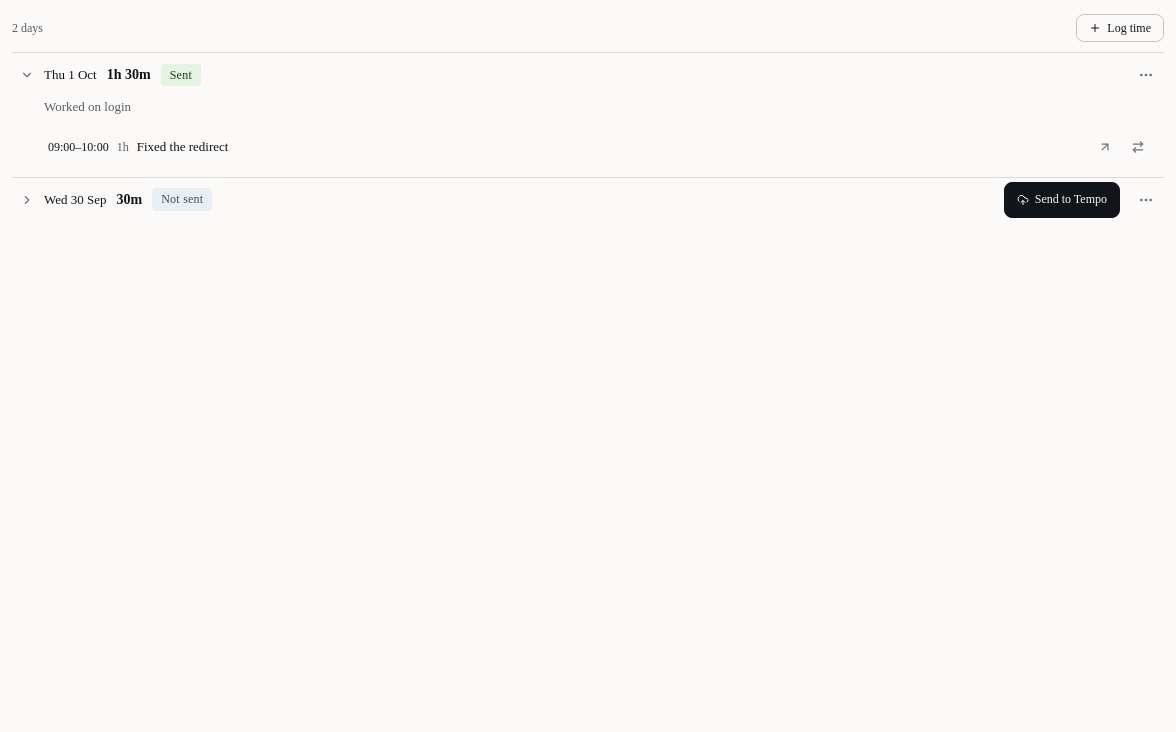
Test: log time › defaults: the daemon's today (not the browser's), max that day, a 15-minute start
Expected: the text "2 days" is shown, [12,19,43,37]
Click the button "Log time" at (1120, 28), box [1076,14,1164,42]
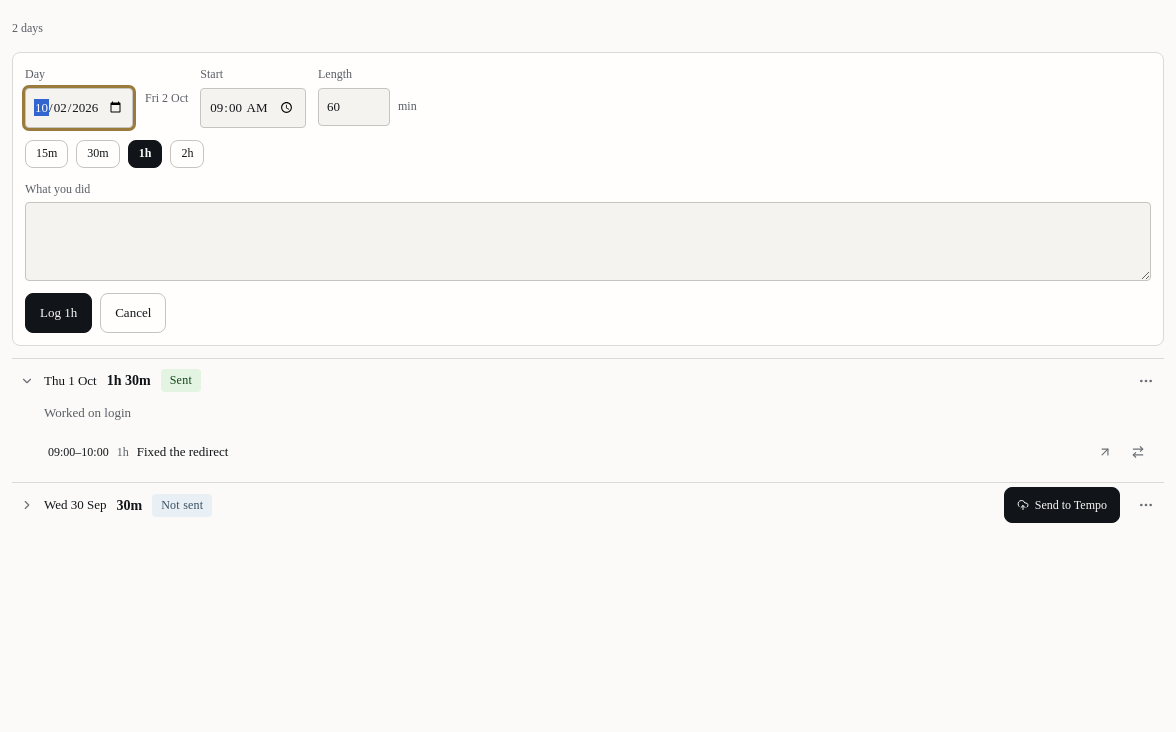
Expected: the date field labelled "Day" holds "2026-10-02", [25,88,133,128]
